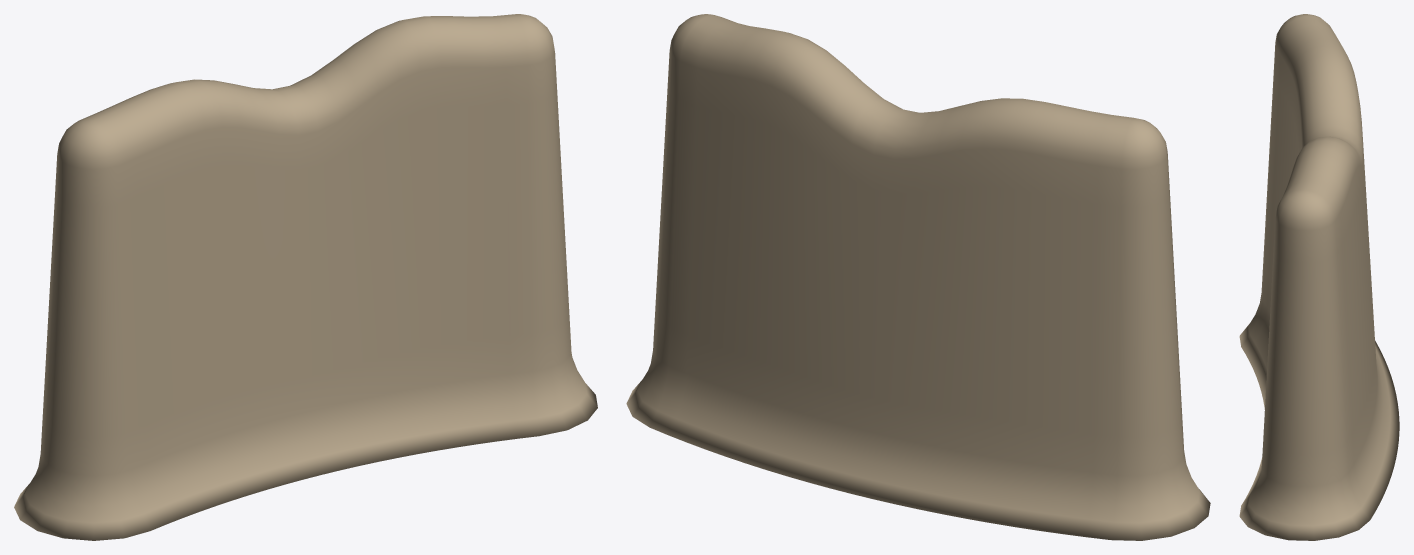
Rendered from KFB_Wall_curved_ring_r2_capAB.r3.glb.
3 views of the same model, side by side, from view 1: azimuth 30°, elevation 25°; view 2: azimuth 150°, elevation 25°; view 3: azimuth 270°, elevation 25° (orthographic). The views are drawn at different scales.
Parts seen in each view (by area): view 1: KFB_Wall_curved_ring_r2_capAB; view 2: KFB_Wall_curved_ring_r2_capAB; view 3: KFB_Wall_curved_ring_r2_capAB.
Boxes of the visible parts, x1,y1,x2,y2 form: KFB_Wall_curved_ring_r2_capAB: [14, 14, 597, 540]; KFB_Wall_curved_ring_r2_capAB: [626, 14, 1210, 540]; KFB_Wall_curved_ring_r2_capAB: [1239, 14, 1399, 540].
Bounding box in the file's own units: 5.48 × 3.7 × 1.62.
